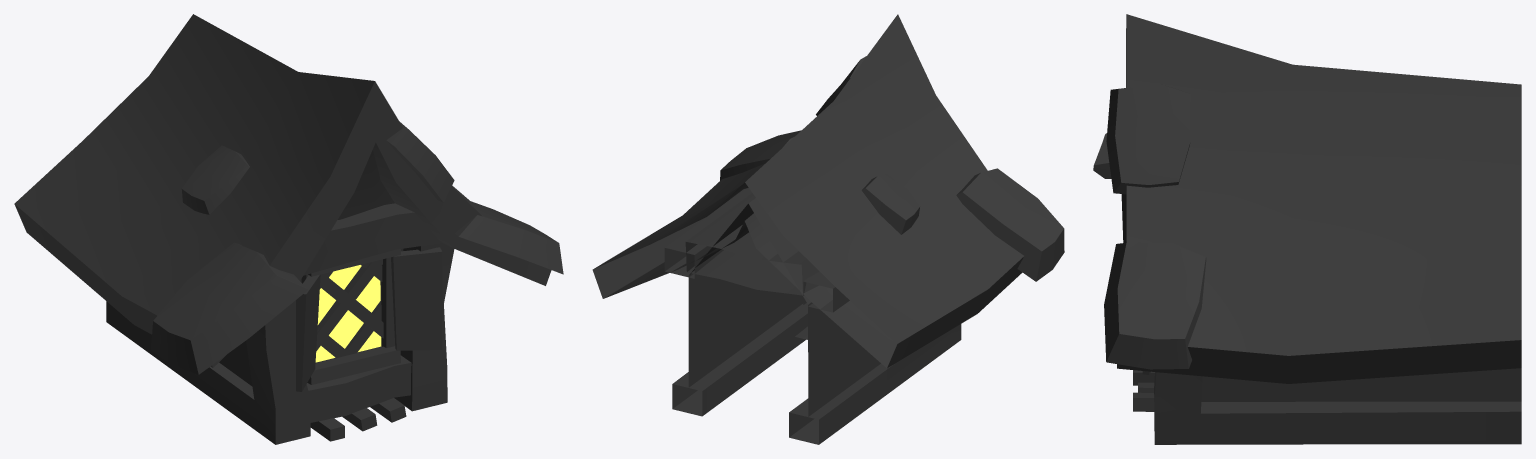
Rendered from SM_BLD_window_v04_01.FBX.
3 views of the same model, side by side, from view 1: azimuth 30°, elevation 25°; view 2: azimuth 150°, elevation 25°; view 3: azimuth 270°, elevation 25° (orthographic). The views are drawn at different scales.
Visible parts, largest first — view 1: SM_BLD_window_v04_01; view 2: SM_BLD_window_v04_01; view 3: SM_BLD_window_v04_01.
Boxes of the visible parts, x1=… form: SM_BLD_window_v04_01: x1=14, y1=14, x2=563, y2=444; SM_BLD_window_v04_01: x1=592, y1=14, x2=1064, y2=444; SM_BLD_window_v04_01: x1=1093, y1=14, x2=1521, y2=444.
Bounding box in the file's own units: 428 × 383 × 382.
